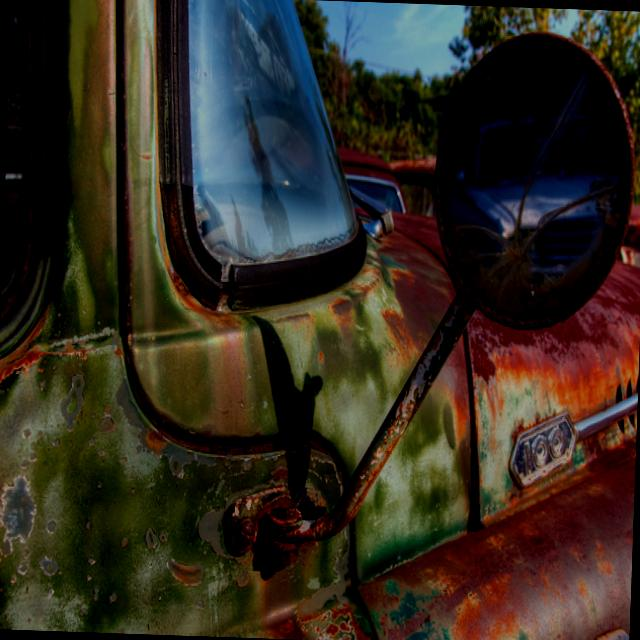Vehicle: (0, 0, 640, 640), (438, 103, 618, 275), (339, 146, 411, 212)
